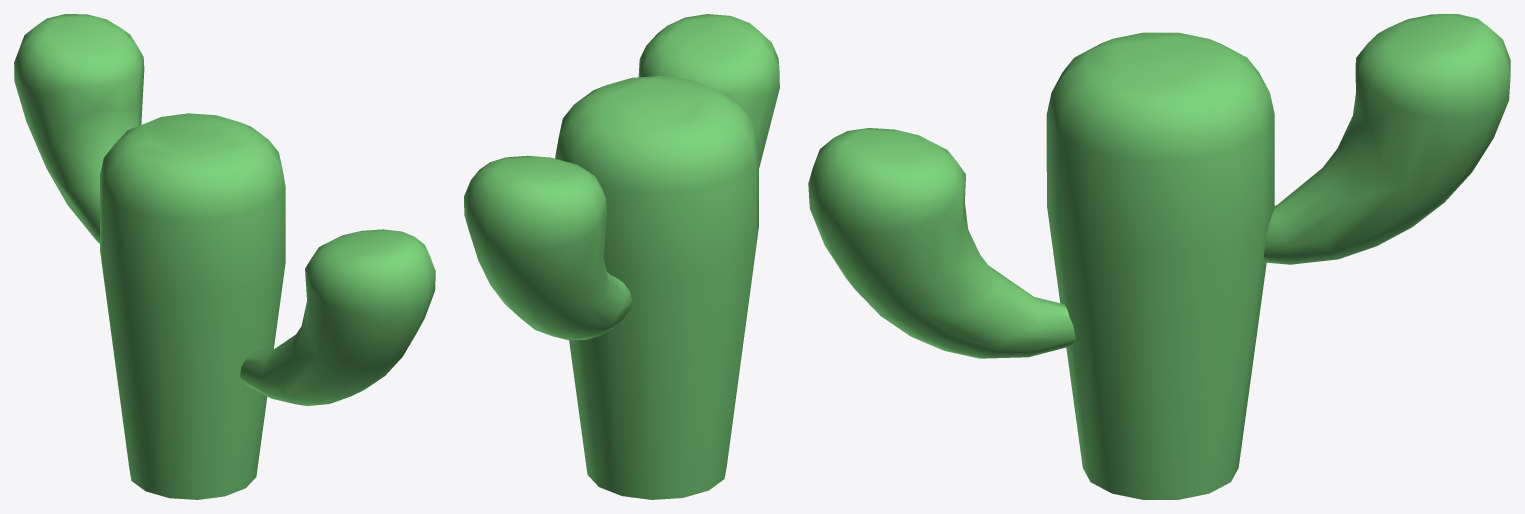
Rendered from Cactus_A.fbx.
3 views of the same model, side by side, from view 1: azimuth 30°, elevation 25°; view 2: azimuth 150°, elevation 25°; view 3: azimuth 270°, elevation 25° (orthographic). The views are drawn at different scales.
Visible parts, largest first — view 1: Cactus_A; view 2: Cactus_A; view 3: Cactus_A.
Part boxes in pixels (<box>): Cactus_A: <box>14,14,435,499</box>; Cactus_A: <box>464,14,779,499</box>; Cactus_A: <box>808,14,1510,499</box>.
Bounding box in the file's own units: 94.52 × 163 × 236.
